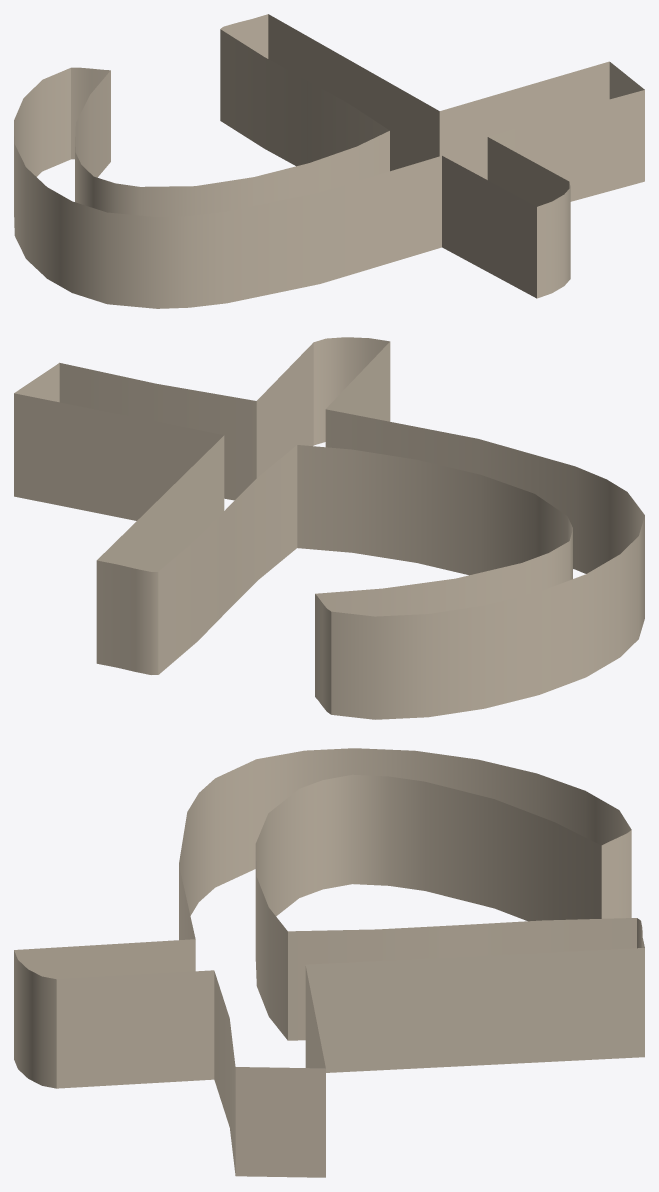
Rendered from original-68.obj.
3 renders of one model, top to bottom at view 1: azimuth 30°, elevation 25°; view 2: azimuth 150°, elevation 25°; view 3: azimuth 270°, elevation 25°, orthographic. The views are drawn at different scales.
Parts seen in each view (by area): view 1: #ID88; view 2: #ID88; view 3: #ID88.
Part boxes in pixels (x1,y1,x2,y2): #ID88: [14, 14, 644, 308]; #ID88: [14, 337, 644, 719]; #ID88: [14, 748, 644, 1177].
Size of the model in its own units: 0.0111 by 0.00176 by 0.0092.
